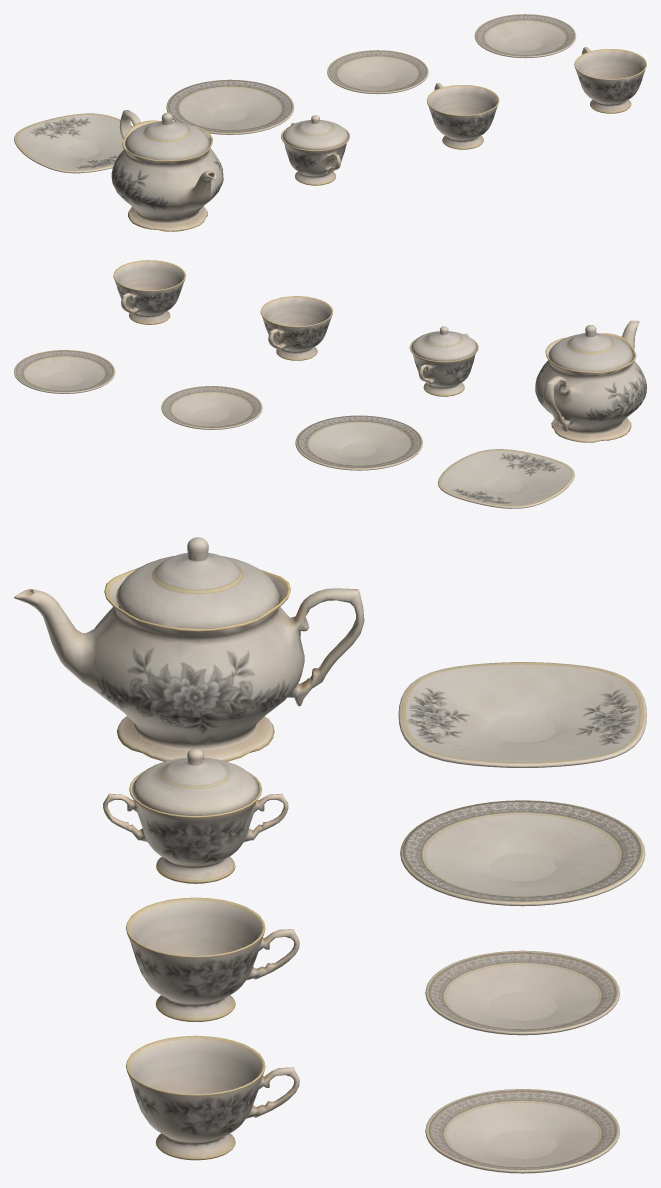
File: tea_set_01.glb
3 renders of one model, top to bottom at view 1: azimuth 30°, elevation 25°; view 2: azimuth 150°, elevation 25°; view 3: azimuth 270°, elevation 25°, orthographic. The views are drawn at different scales.
Visible parts, largest first — view 1: tea_set_01_teapot_01, tea_set_01_plate_large_circular_03, tea_set_01_plate_large_square_01, tea_set_01_cup_small_01, tea_set_01_cup_small_02, tea_set_01_saucer_circular_03, tea_set_01_saucer_circular_04, tea_set_01_teapot_01_lid, tea_set_01_sugar_cup_01, tea_set_01_sugar_cup_01_lid; view 2: tea_set_01_teapot_01, tea_set_01_plate_large_square_01, tea_set_01_plate_large_circular_03, tea_set_01_cup_small_01, tea_set_01_cup_small_02, tea_set_01_saucer_circular_04, tea_set_01_saucer_circular_03, tea_set_01_teapot_01_lid, tea_set_01_sugar_cup_01, tea_set_01_sugar_cup_01_lid; view 3: tea_set_01_teapot_01, tea_set_01_plate_large_square_01, tea_set_01_plate_large_circular_03, tea_set_01_cup_small_01, tea_set_01_cup_small_02, tea_set_01_saucer_circular_03, tea_set_01_saucer_circular_04, tea_set_01_teapot_01_lid, tea_set_01_sugar_cup_01, tea_set_01_sugar_cup_01_lid.
Part boxes in pixels (x1,y1,x2,y2): tea_set_01_teapot_01: (111, 110, 223, 231); tea_set_01_plate_large_circular_03: (166, 79, 294, 134); tea_set_01_plate_large_square_01: (14, 113, 133, 173); tea_set_01_cup_small_01: (426, 83, 499, 149); tea_set_01_cup_small_02: (574, 47, 646, 113); tea_set_01_saucer_circular_03: (474, 14, 576, 58); tea_set_01_saucer_circular_04: (327, 50, 428, 94); tea_set_01_teapot_01_lid: (125, 112, 209, 160); tea_set_01_sugar_cup_01: (281, 122, 349, 185); tea_set_01_sugar_cup_01_lid: (282, 115, 348, 150); tea_set_01_teapot_01: (535, 320, 646, 442); tea_set_01_plate_large_square_01: (438, 449, 574, 508); tea_set_01_plate_large_circular_03: (295, 415, 422, 470); tea_set_01_cup_small_01: (260, 296, 332, 360); tea_set_01_cup_small_02: (113, 260, 185, 324); tea_set_01_saucer_circular_04: (161, 386, 262, 429); tea_set_01_saucer_circular_03: (14, 350, 115, 393); tea_set_01_teapot_01_lid: (548, 325, 633, 371); tea_set_01_sugar_cup_01: (409, 333, 478, 396); tea_set_01_sugar_cup_01_lid: (411, 326, 477, 361); tea_set_01_teapot_01: (14, 568, 364, 761); tea_set_01_plate_large_square_01: (398, 662, 646, 767); tea_set_01_plate_large_circular_03: (400, 800, 645, 906); tea_set_01_cup_small_01: (126, 897, 299, 1021); tea_set_01_cup_small_02: (126, 1035, 299, 1160); tea_set_01_saucer_circular_03: (425, 1089, 619, 1173); tea_set_01_saucer_circular_04: (425, 950, 619, 1035); tea_set_01_teapot_01_lid: (116, 537, 279, 628); tea_set_01_sugar_cup_01: (103, 771, 288, 883); tea_set_01_sugar_cup_01_lid: (131, 748, 259, 816).
Size of the model in its own units: 0.9185 by 0.165 by 0.4839.
Materials: 1 (1 with a texture image).
